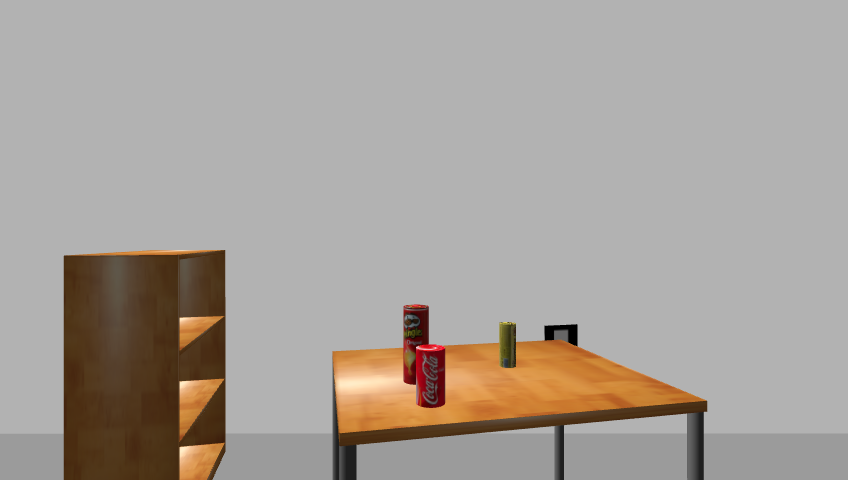aruco marker: (541, 323, 582, 351)
biscuits pack: (498, 321, 518, 370)
bookshelf: (58, 247, 234, 479)
coke can: (415, 344, 447, 408)
dinner table: (324, 340, 716, 480)
pringles can: (400, 303, 430, 386)
